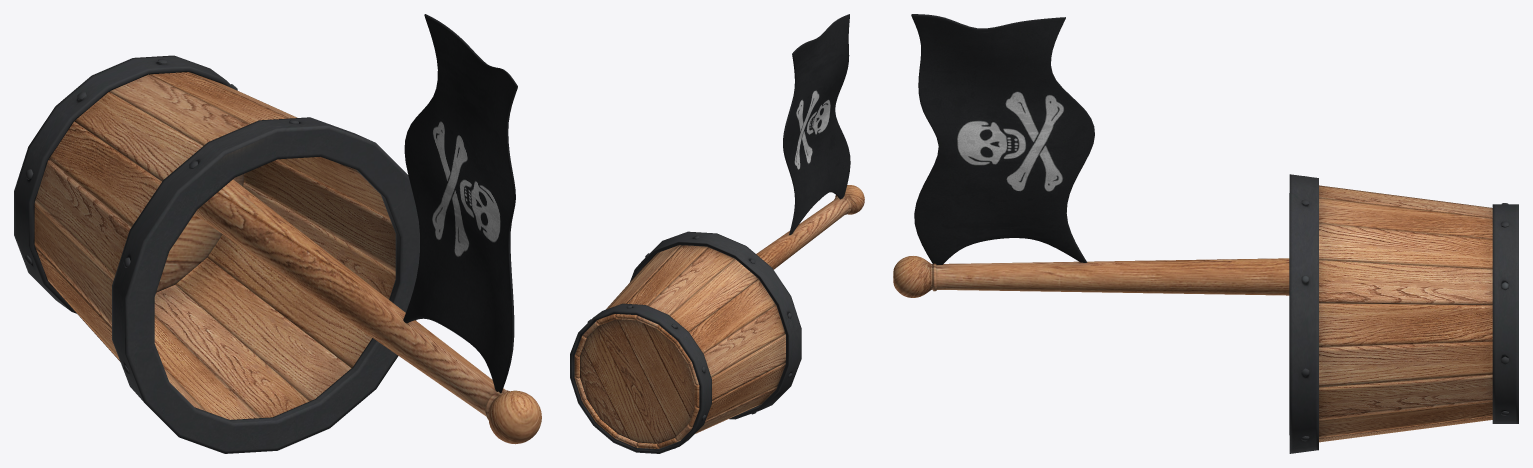
File: 14050_Pirate_Flag_Nest_v1_L3.obj
3 renders of one model, left to right at view 1: azimuth 30°, elevation 25°; view 2: azimuth 150°, elevation 25°; view 3: azimuth 270°, elevation 25°, orthographic. The views are drawn at different scales.
Visible parts, largest first — view 1: flag, metal, Wood4, Wood1, Wood5, Wood2, Wood3, Wood6, bottom; view 2: flag, bottom, metal, Wood1, Wood2, Wood6, Wood3, Wood4, Wood5; view 3: flag, Wood5, Wood6, metal, Wood4, Wood1.
Part boxes in pixels (x1,y1,x2,y2): flag: (194, 14, 541, 444); metal: (14, 55, 419, 453); Wood4: (154, 234, 372, 417); Wood1: (49, 74, 248, 226); Wood5: (242, 157, 395, 299); Wood2: (34, 160, 131, 360); Wood3: (49, 282, 260, 419); Wood6: (150, 72, 297, 124); bottom: (156, 174, 243, 292); flag: (756, 14, 864, 269); bottom: (580, 319, 694, 443); metal: (570, 231, 801, 453); Wood1: (636, 247, 775, 363); Wood2: (688, 305, 785, 427); Wood6: (582, 245, 707, 337); Wood3: (636, 387, 776, 448); Wood4: (582, 399, 637, 447); Wood5: (574, 336, 586, 401); flag: (893, 14, 1289, 297); Wood5: (1319, 303, 1492, 419); Wood6: (1319, 197, 1492, 304); metal: (1289, 174, 1518, 453); Wood4: (1319, 401, 1492, 442); Wood1: (1319, 185, 1492, 217).
Bounding box in the file's own units: 36.63 × 62.49 × 82.74.
